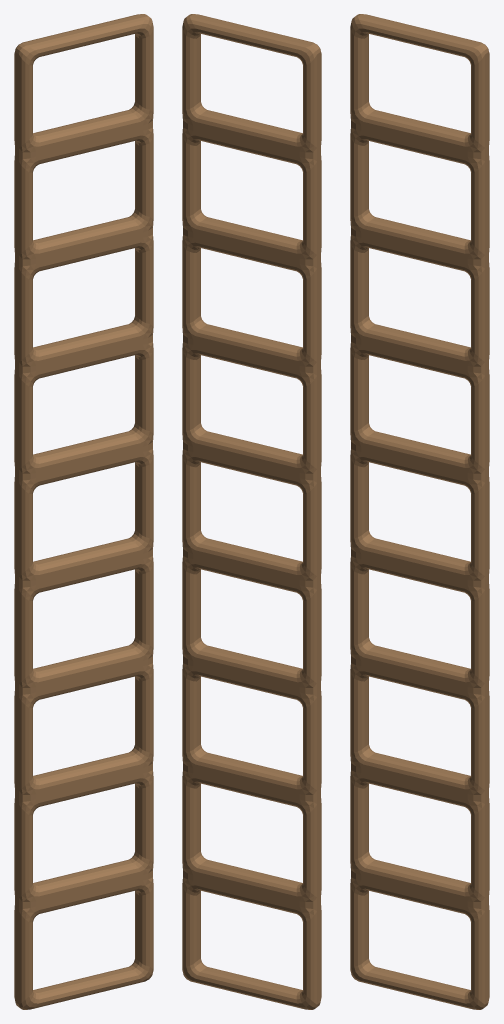
File: Ladder Ver2.fbx
The picture shows the model from 3 angles, left to right: view 1: azimuth 30°, elevation 25°; view 2: azimuth 150°, elevation 25°; view 3: azimuth 330°, elevation 25°; orthographic projection.
Visible parts, largest first — view 1: Ladder Ver2; view 2: Ladder Ver2; view 3: Ladder Ver2.
Boxes of the visible parts, <box> form: Ladder Ver2: <box>14,14,153,1009</box>; Ladder Ver2: <box>182,14,321,1009</box>; Ladder Ver2: <box>350,14,489,1009</box>.
Bounding box in the file's own units: 52.55 × 362 × 7.56.
